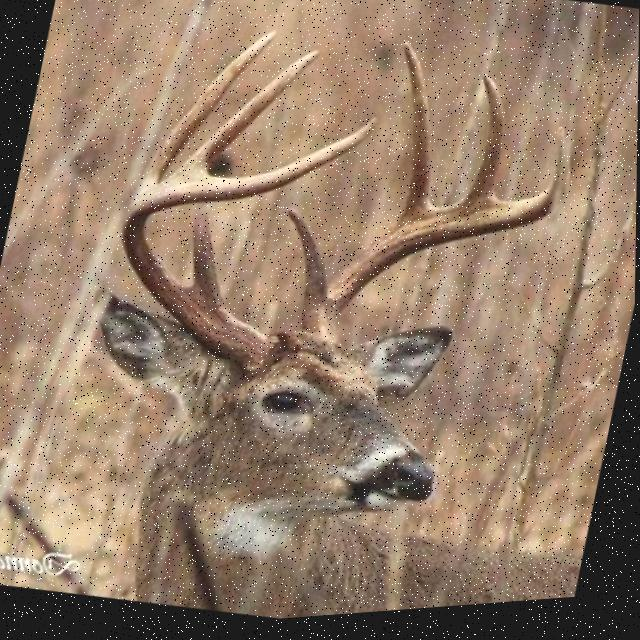L-F: (121, 122, 379, 374)
L-G1: (191, 210, 233, 319)
L-G2: (136, 35, 277, 201)
L-G3: (160, 54, 322, 188)
R-F: (297, 135, 571, 351)
R-G1: (288, 212, 329, 310)
R-G2: (395, 46, 441, 234)
R-G3: (453, 80, 505, 213)
